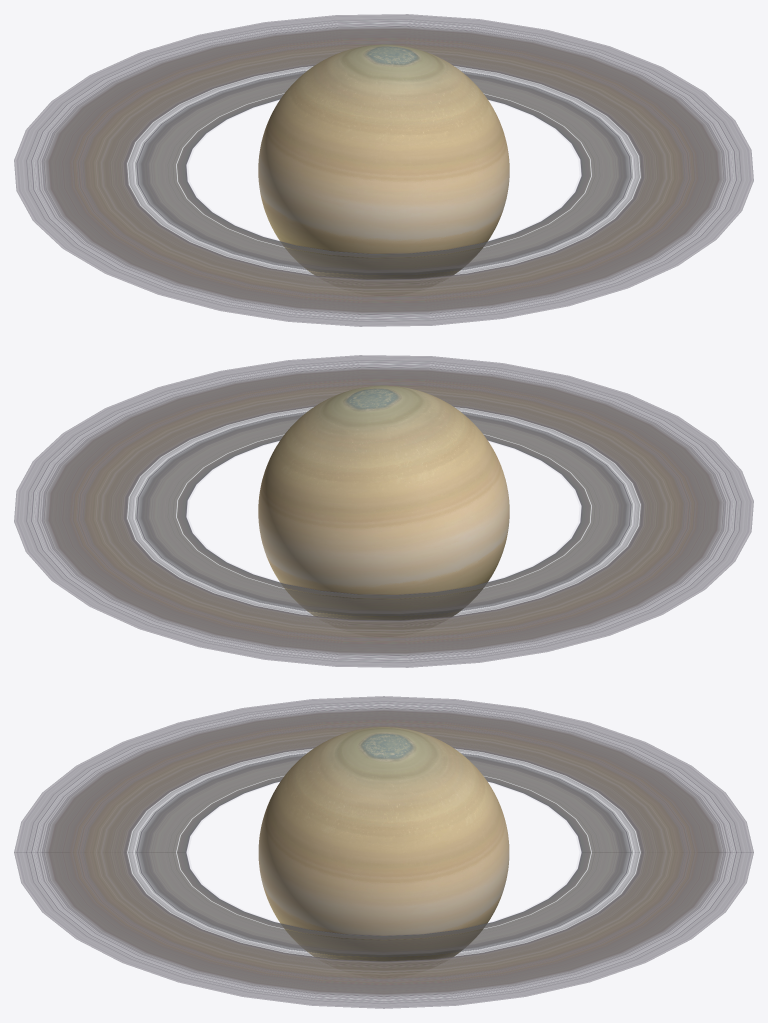
Rendered from saturn.glb.
3 views of the same model, one above another, from view 1: azimuth 30°, elevation 25°; view 2: azimuth 150°, elevation 25°; view 3: azimuth 270°, elevation 25° (orthographic).
Parts seen in each view (by area): view 1: Circle.001, Sphere.003; view 2: Circle.001, Sphere.003; view 3: Circle.001, Sphere.003.
Part boxes in pixels (x1,y1,x2,y2): Circle.001: (14,14,753,326); Sphere.003: (258,44,509,279); Circle.001: (14,355,753,667); Sphere.003: (258,385,509,620); Circle.001: (14,696,753,1008); Sphere.003: (258,727,509,961).
Size of the model in its own units: 11.79 by 4 by 11.79.
Materials: 2 (2 with a texture image).
